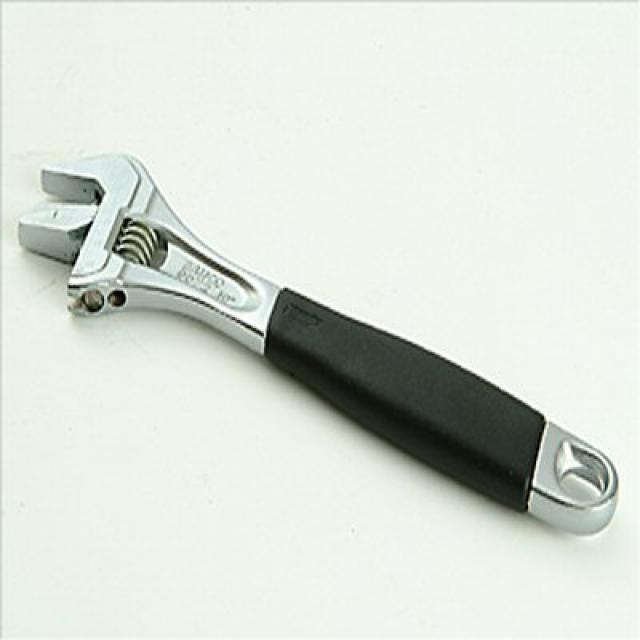wrench: (11, 143, 628, 548)
